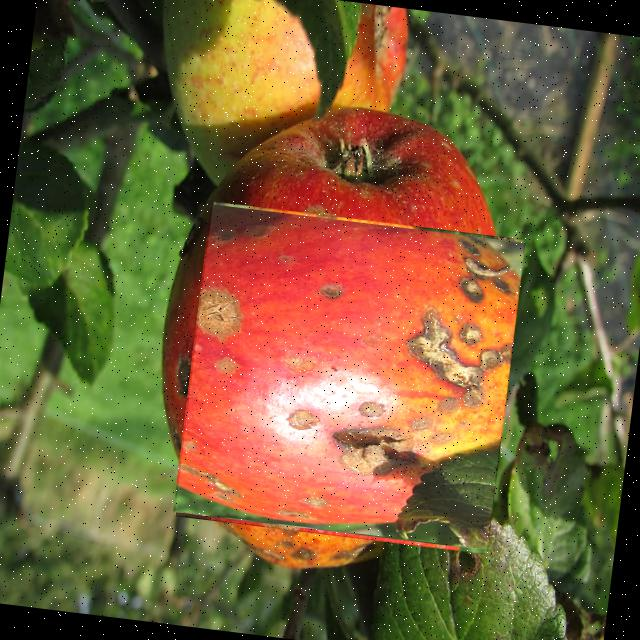Rotten Apple: (174, 201, 526, 553)
